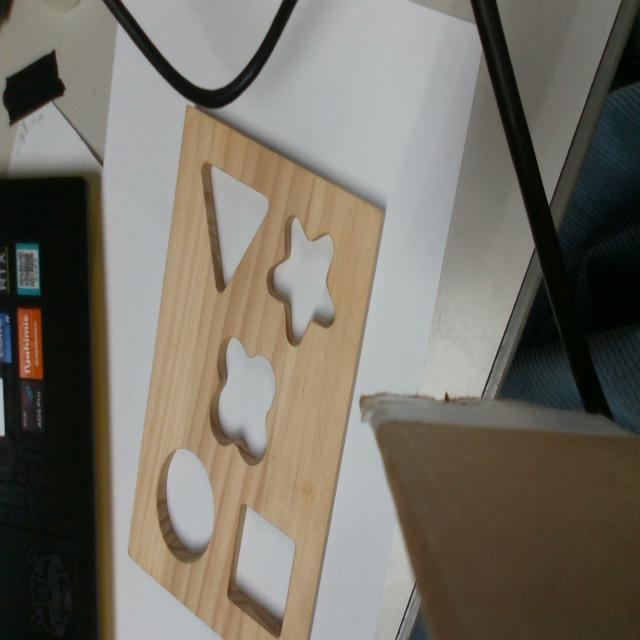circle: (158, 448, 216, 563)
flower: (207, 336, 274, 466)
square: (225, 502, 297, 637)
star: (265, 214, 334, 345)
triangle: (200, 160, 268, 293)
